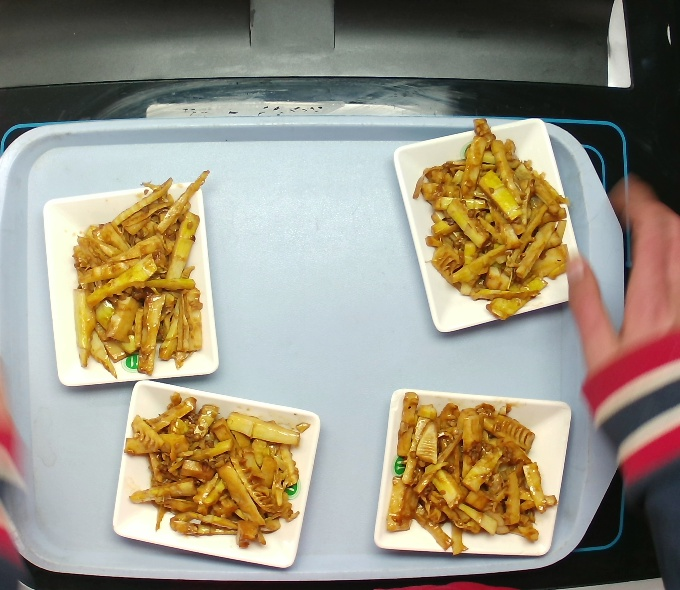wcq-QingChaoChunSun: (398, 115, 588, 323), (55, 172, 235, 381), (117, 390, 313, 548), (373, 399, 563, 548)
